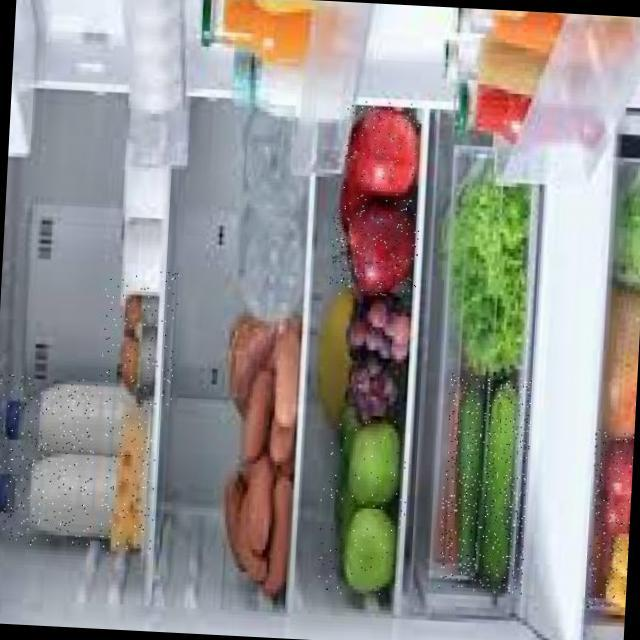Huevos: (100, 265, 180, 412)
Manzana: (314, 417, 411, 599), (342, 100, 420, 212), (330, 208, 420, 298)
Queso: (100, 412, 159, 555)
courgettes: (438, 373, 533, 594)
milk: (0, 372, 99, 547)
peppers: (587, 429, 635, 609)
